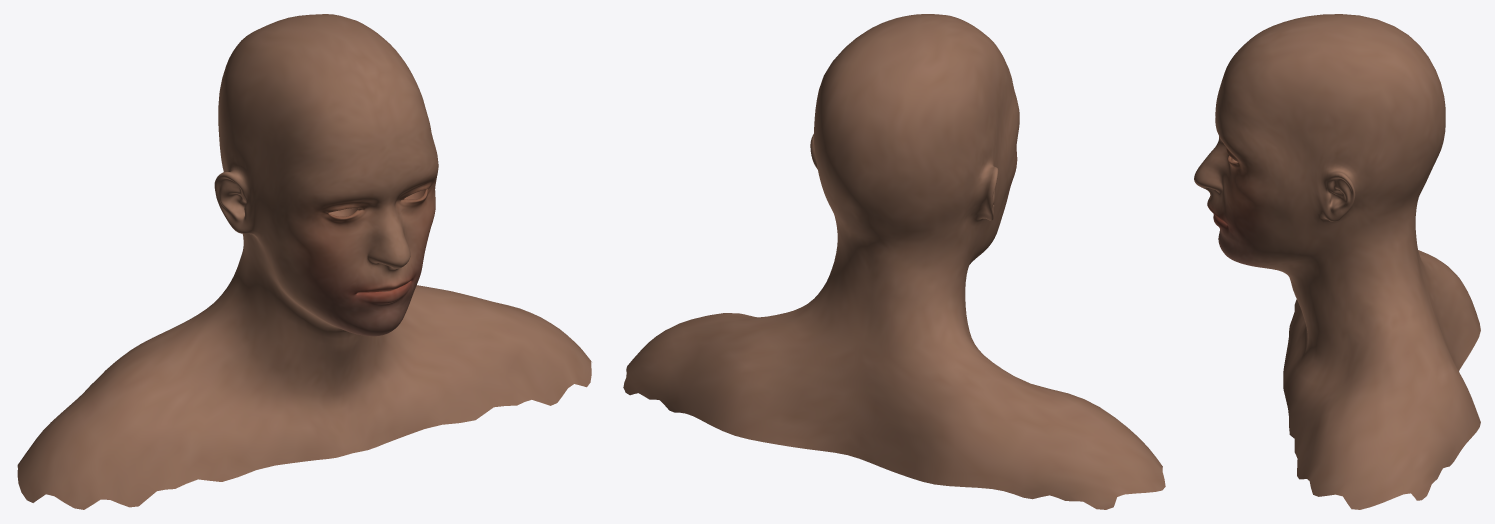
File: cabeca.glb
3 views of the same model, side by side, from view 1: azimuth 30°, elevation 25°; view 2: azimuth 150°, elevation 25°; view 3: azimuth 270°, elevation 25° (orthographic). The views are drawn at different scales.
Parts seen in each view (by area): view 1: Cabeça; view 2: Cabeça; view 3: Cabeça.
Part boxes in pixels (<box>): Cabeça: <box>17,14,591,509</box>; Cabeça: <box>623,14,1165,509</box>; Cabeça: <box>1194,14,1480,509</box>.
Size of the model in its own units: 4.97 by 3.49 by 2.48.
